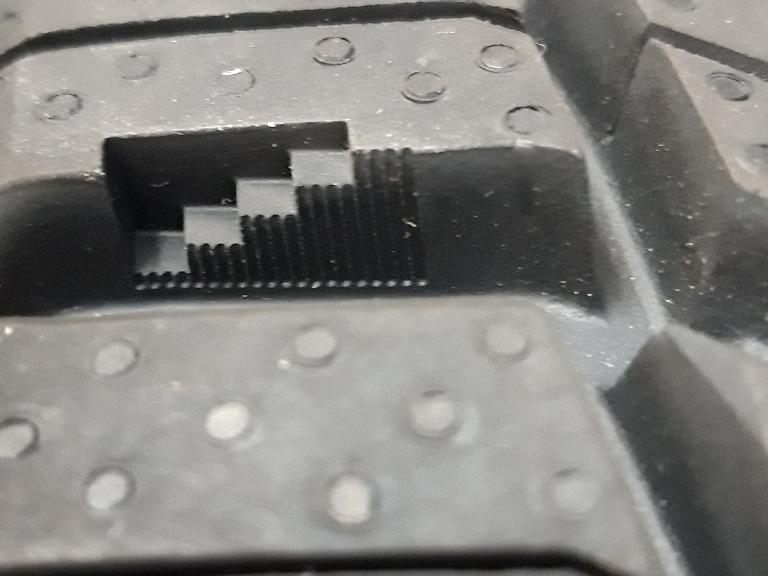temoin:100: (99, 117, 434, 293)
